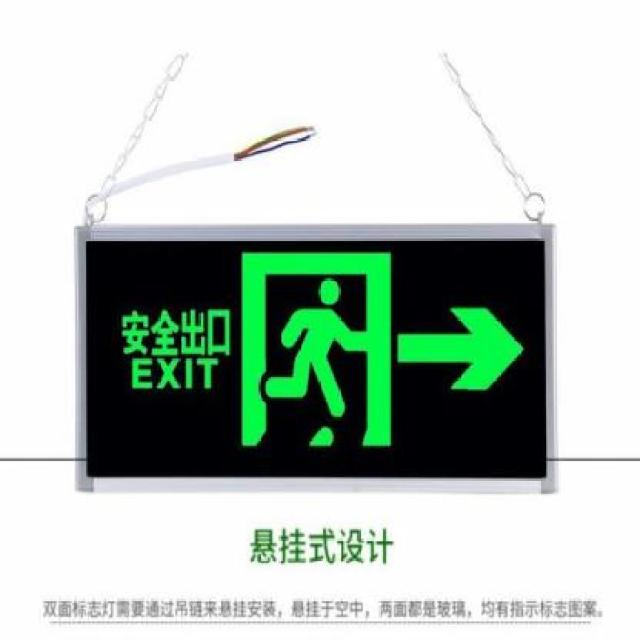exit_sign: (60, 209, 558, 510)
